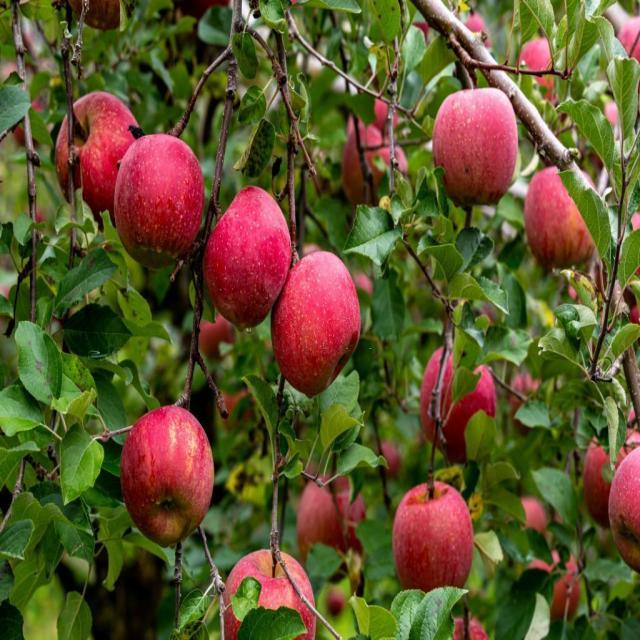Red Apple: (202, 185, 291, 324), (126, 405, 216, 540), (276, 255, 361, 381), (121, 137, 204, 259), (391, 475, 472, 590), (436, 88, 514, 206), (231, 538, 313, 640), (524, 162, 600, 272), (60, 90, 132, 195), (425, 348, 493, 453), (303, 476, 368, 561), (350, 121, 405, 209), (582, 434, 637, 518), (608, 438, 640, 550), (538, 551, 581, 615), (525, 37, 561, 97), (355, 95, 394, 145), (516, 497, 546, 537), (466, 12, 490, 46), (454, 616, 487, 640), (325, 589, 343, 615)
